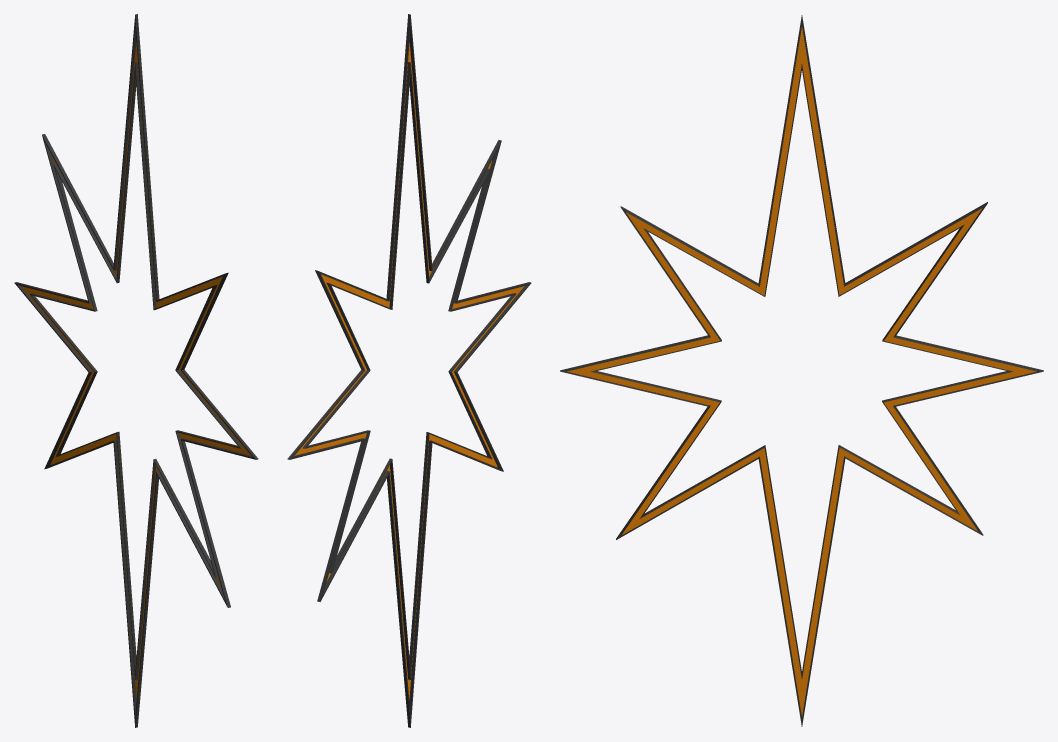
File: EstrelaDeNatal.glb
The picture shows the model from 3 angles, left to right: view 1: azimuth 30°, elevation 25°; view 2: azimuth 150°, elevation 25°; view 3: azimuth 270°, elevation 25°; orthographic projection.
Parts seen in each view (by area): view 1: Plane.001; view 2: Plane.001; view 3: Plane.001.
Boxes of the visible parts, x1,y1,x2,y2 form: Plane.001: [14, 14, 258, 727]; Plane.001: [287, 14, 531, 727]; Plane.001: [560, 15, 1043, 726].
Size of the model in its own units: 0.0157 by 3.25 by 2.
